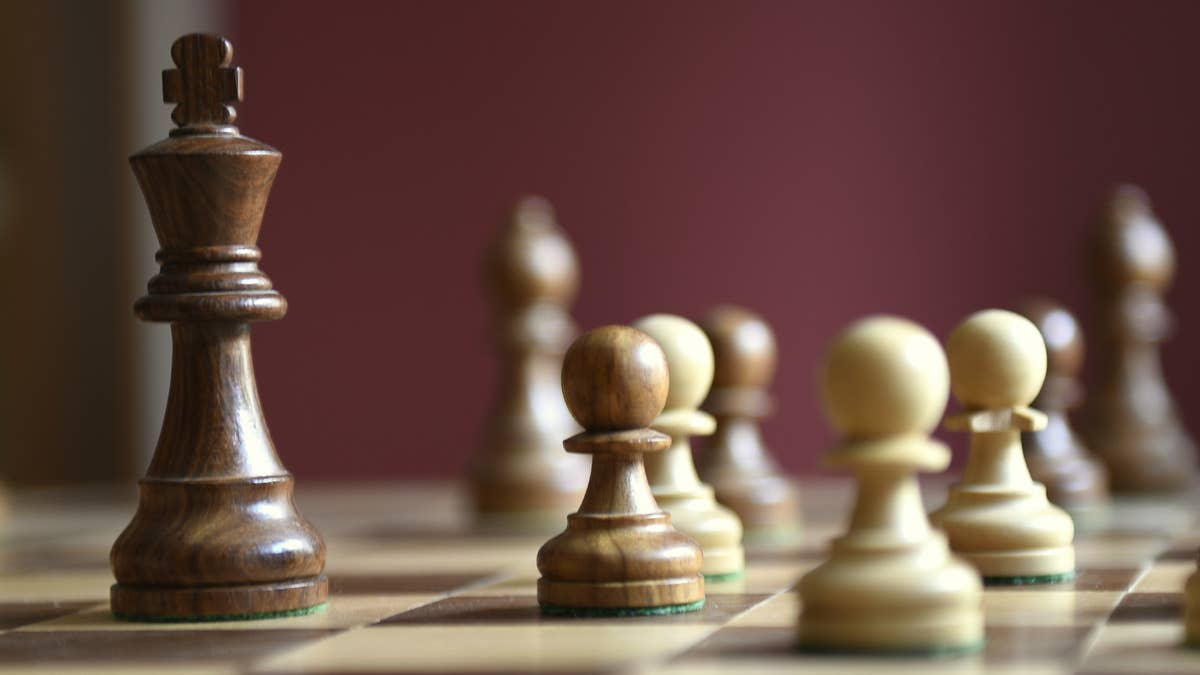king: (108, 32, 329, 625)
pawn: (801, 315, 984, 657), (536, 323, 703, 612), (943, 310, 1075, 585), (632, 316, 747, 578)
